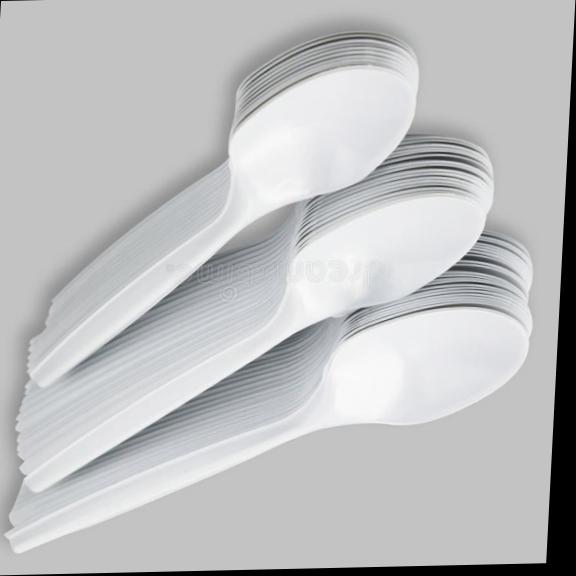Plastik: (17, 136, 491, 490), (6, 232, 531, 550), (7, 291, 527, 550), (28, 65, 415, 385)
